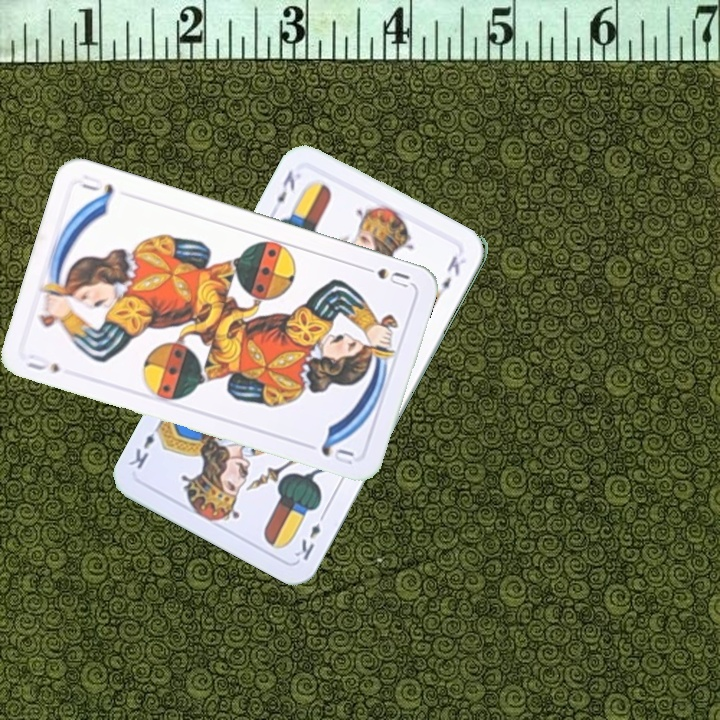EK: (290, 507, 329, 563), (267, 166, 298, 216)
SU: (356, 261, 412, 291), (22, 350, 62, 376)
